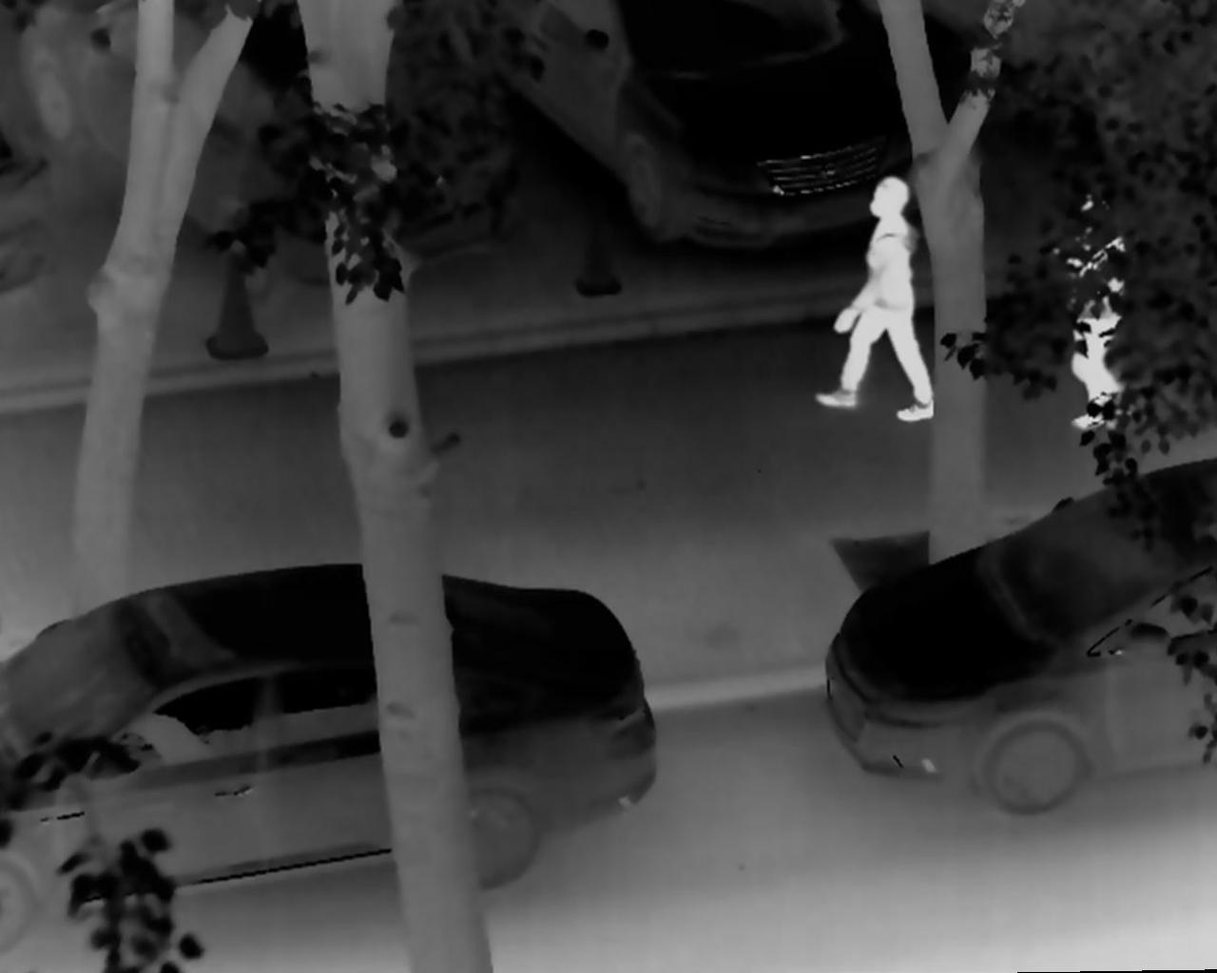person: (809, 169, 936, 431), (1050, 173, 1129, 439)
